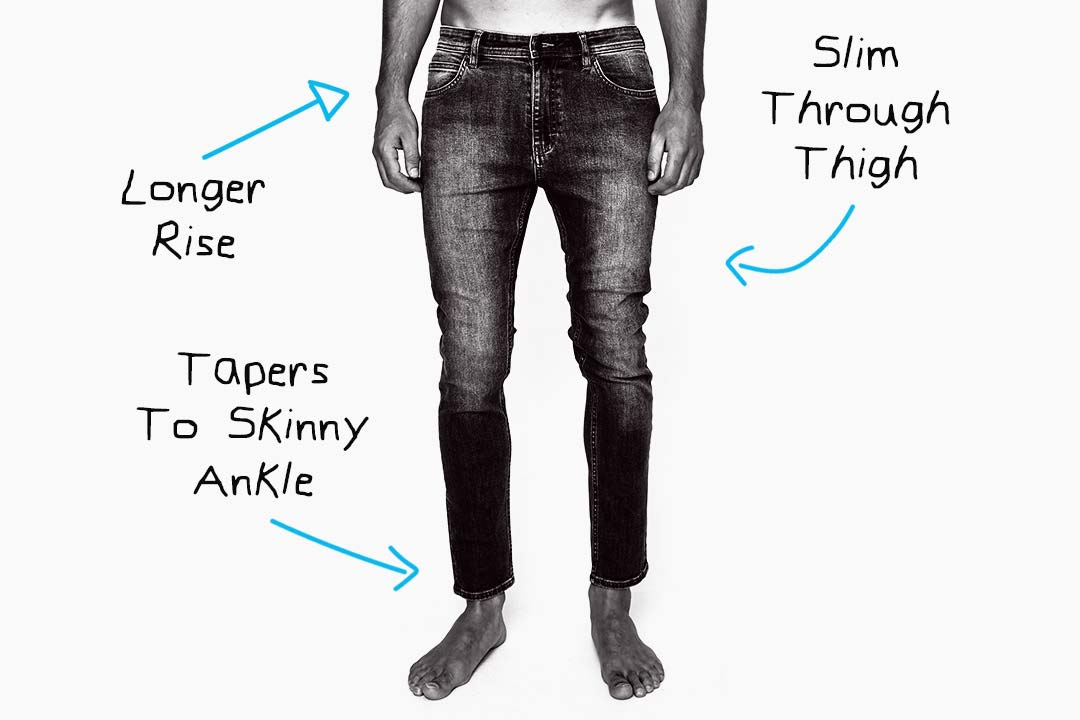jeans: (395, 25, 674, 598)
